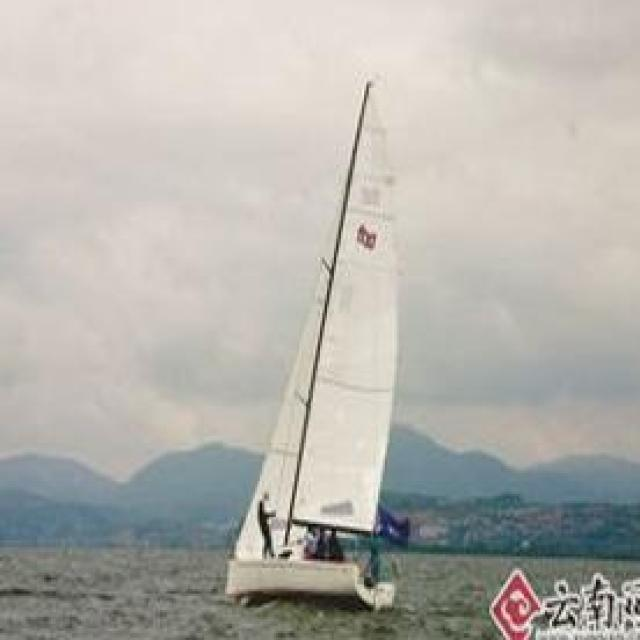sailboat: (226, 75, 414, 608)
